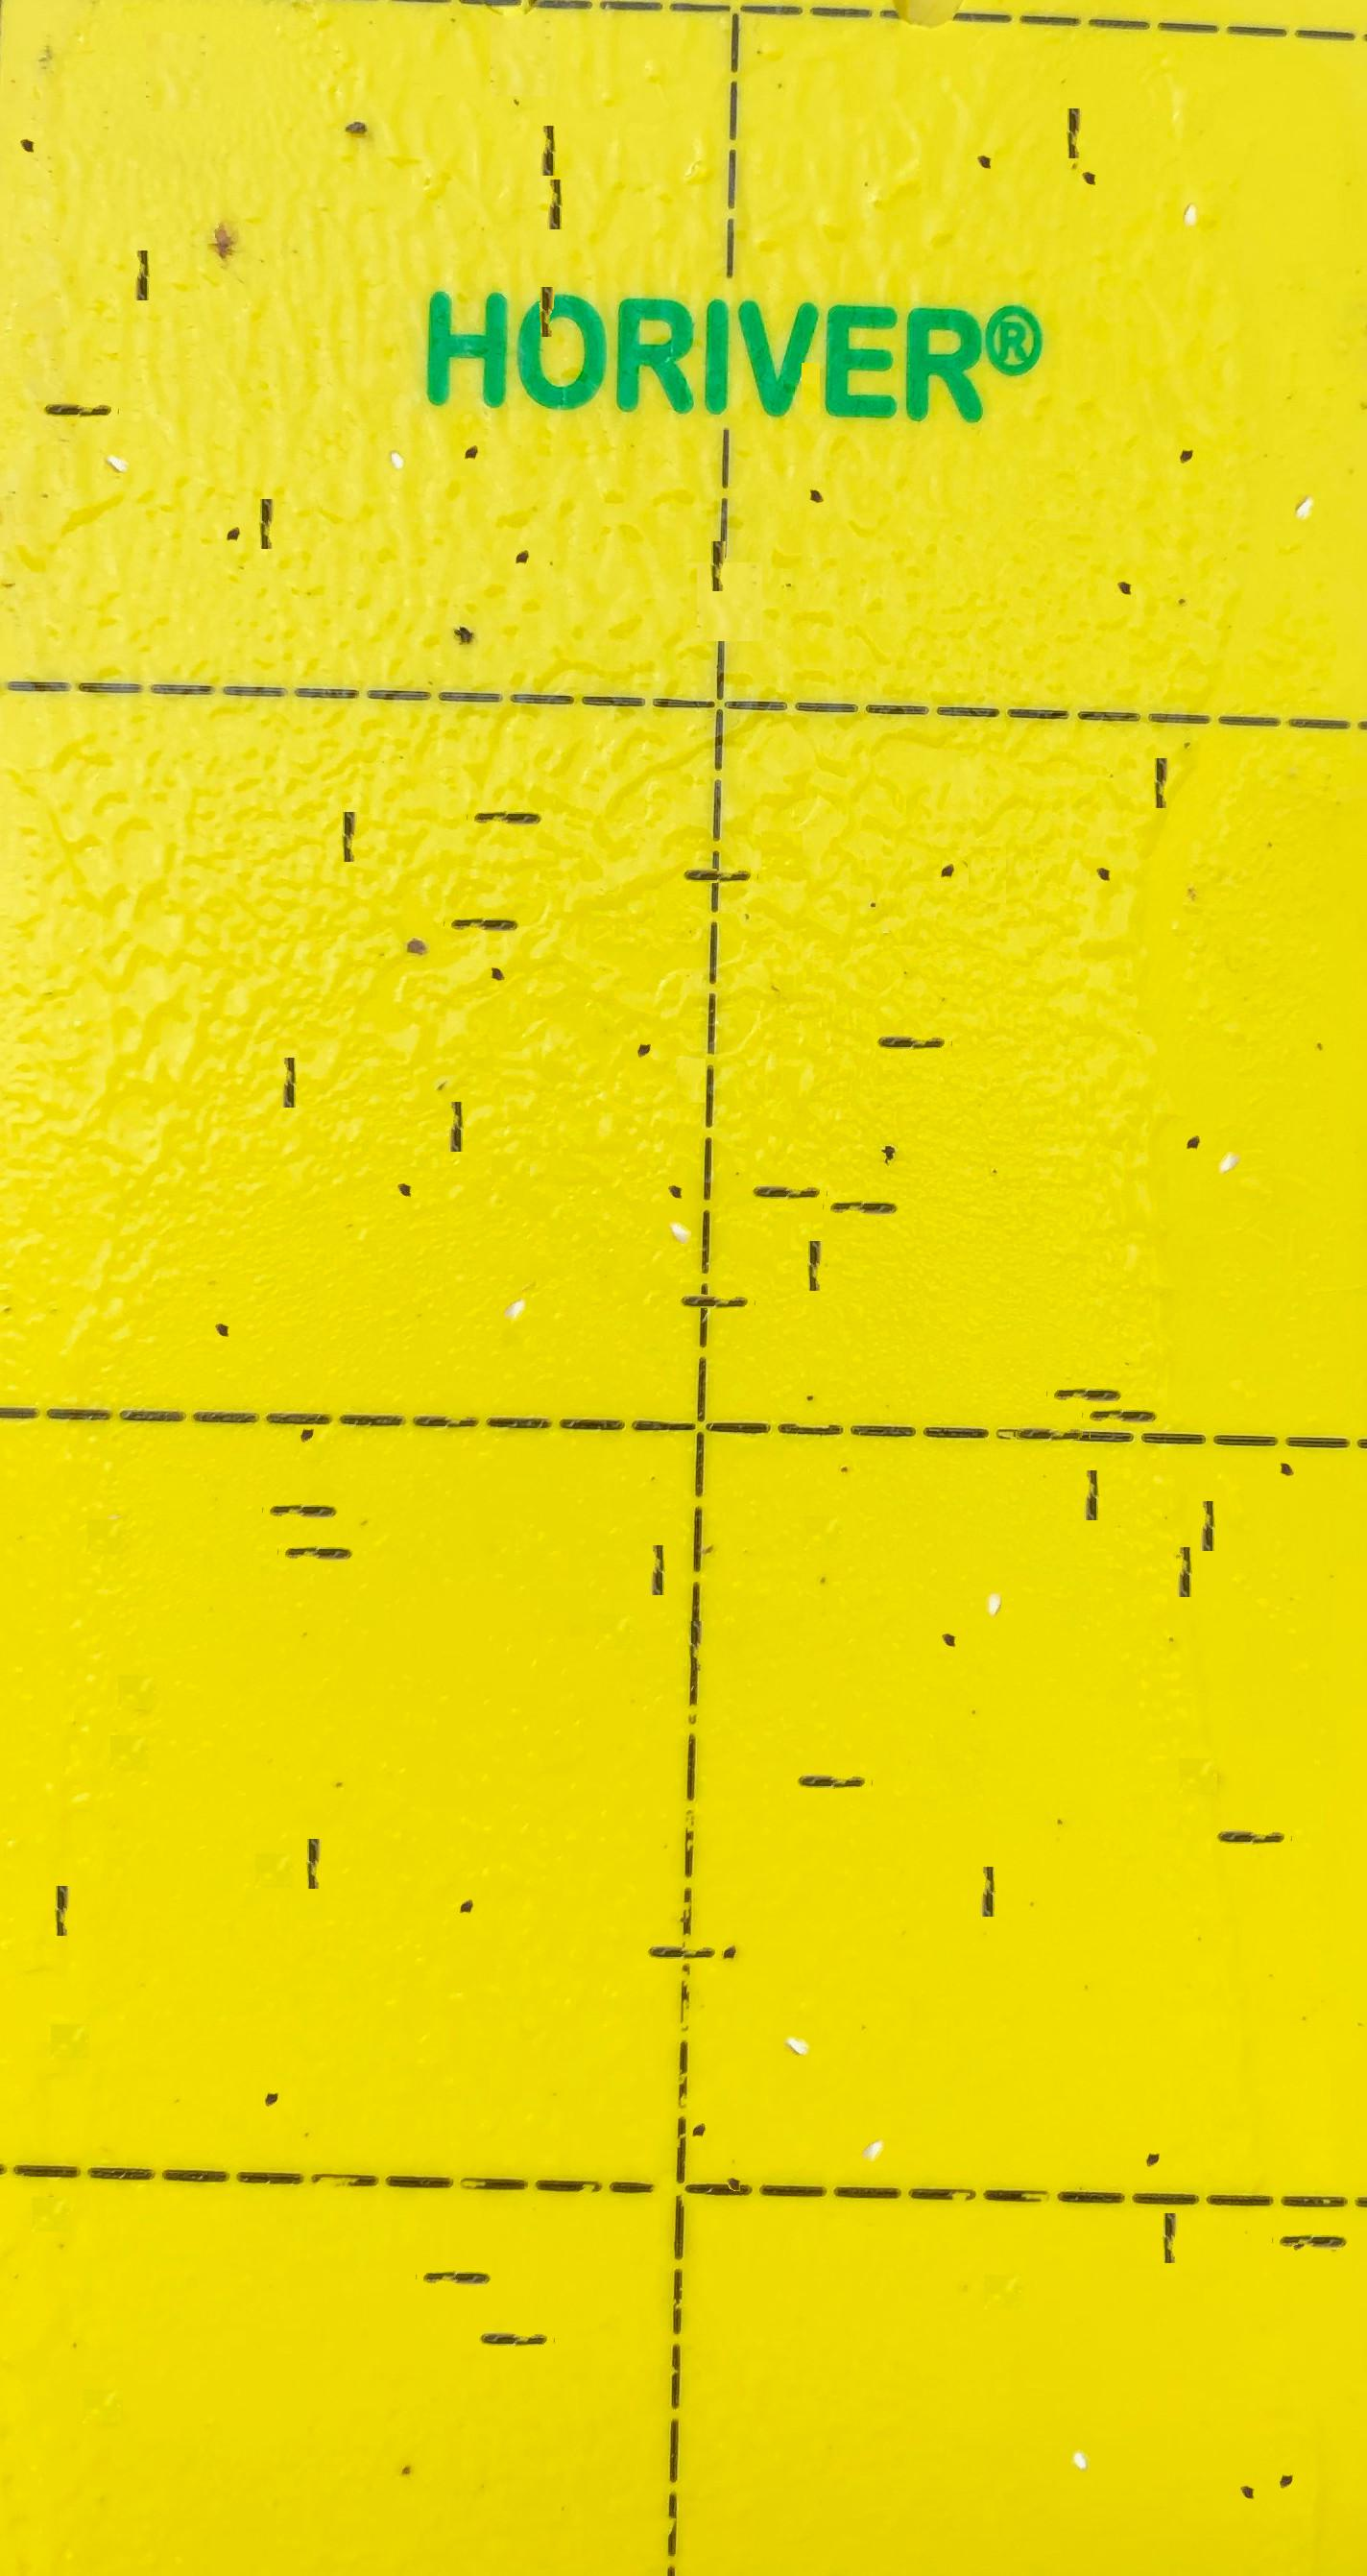white_fly: (1060, 2389, 1103, 2436), (375, 390, 418, 438), (779, 1976, 822, 2022), (1285, 443, 1328, 489), (99, 395, 141, 440), (493, 1245, 535, 1290), (660, 1169, 702, 1211), (1208, 1097, 1251, 1140), (852, 2087, 893, 2130), (1168, 160, 1210, 198), (975, 1547, 1016, 1584)
